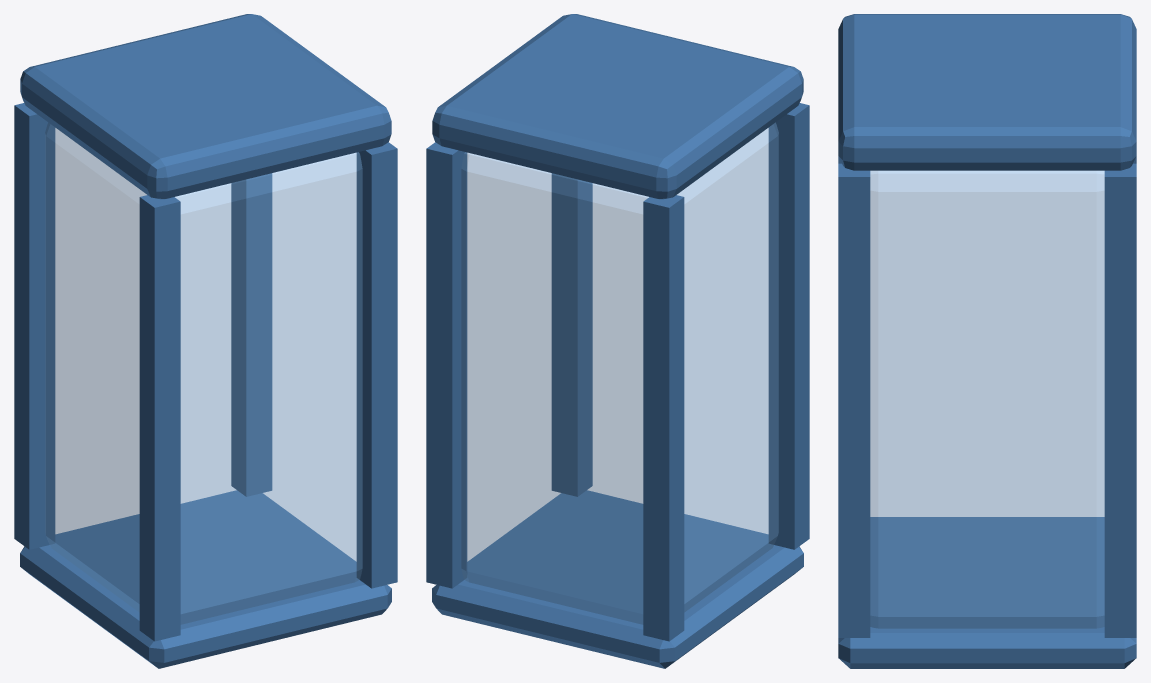
File: pkg_glass_1x2.glb
3 renders of one model, left to right at view 1: azimuth 30°, elevation 25°; view 2: azimuth 150°, elevation 25°; view 3: azimuth 270°, elevation 25°, orthographic. The views are drawn at different scales.
Parts seen in each view (by area): view 1: PkgGlass1x2; view 2: PkgGlass1x2; view 3: PkgGlass1x2.
Part boxes in pixels (left/top/right/bottom): PkgGlass1x2: left=14, top=14, right=397, bottom=668; PkgGlass1x2: left=426, top=14, right=809, bottom=668; PkgGlass1x2: left=838, top=14, right=1136, bottom=668.
Bounding box in the file's own units: 0.075 × 0.15 × 0.075.
